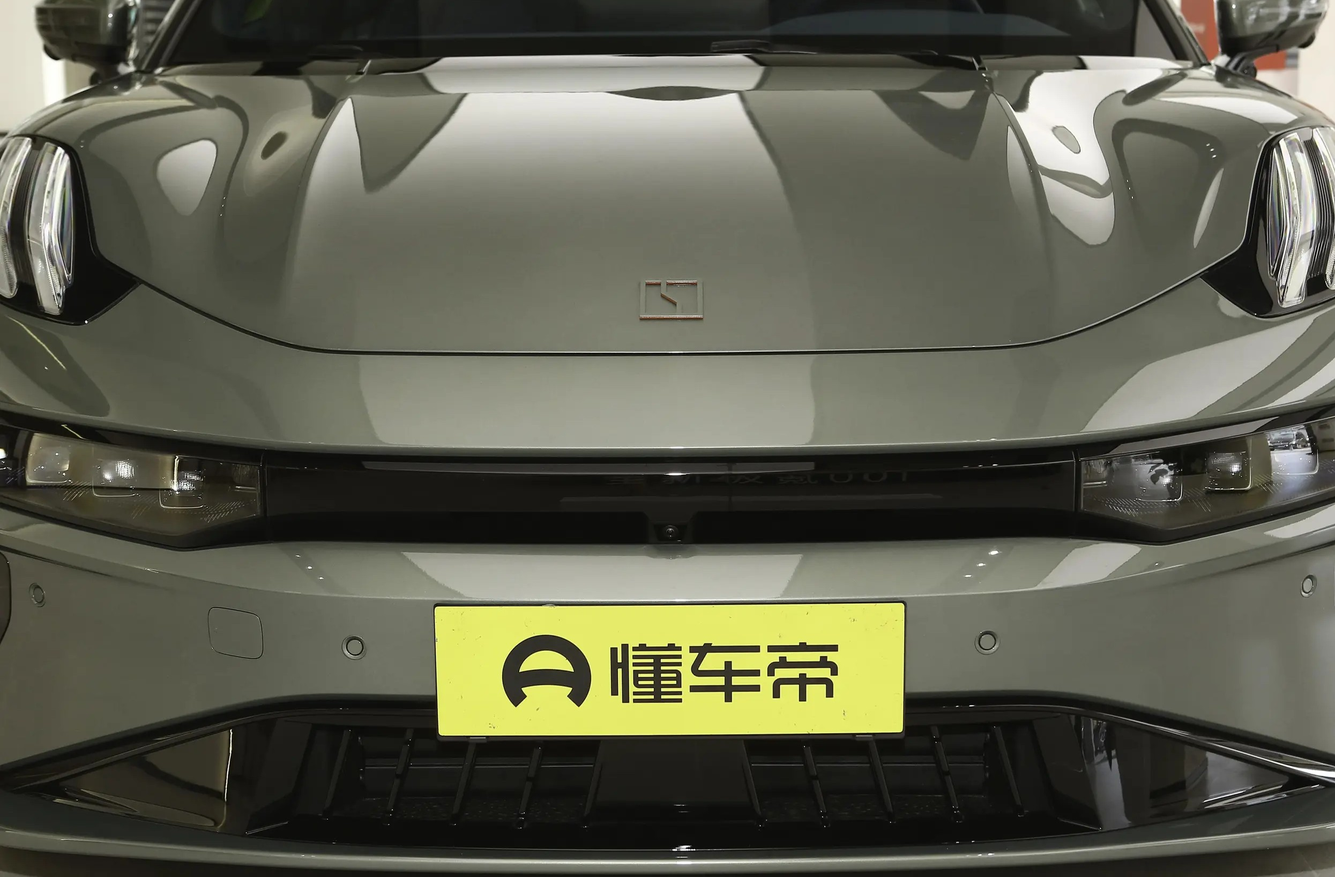ZEEKR: (640, 279, 703, 318)
